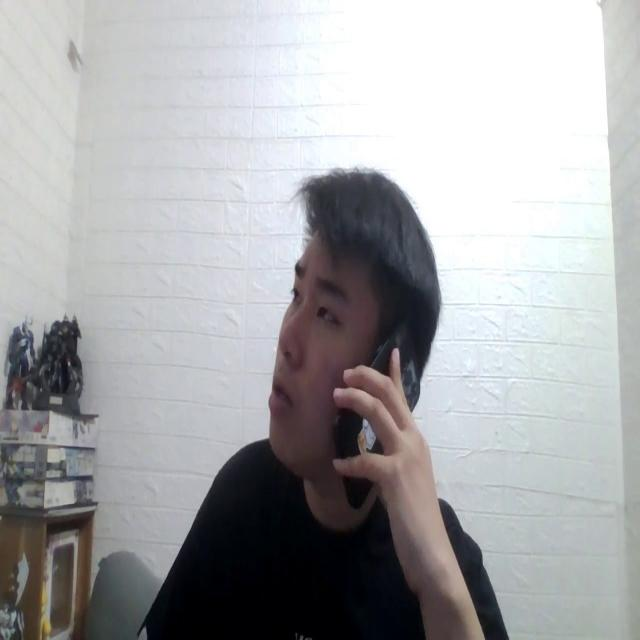phone: (335, 312, 420, 504)
student: (138, 163, 510, 640)
